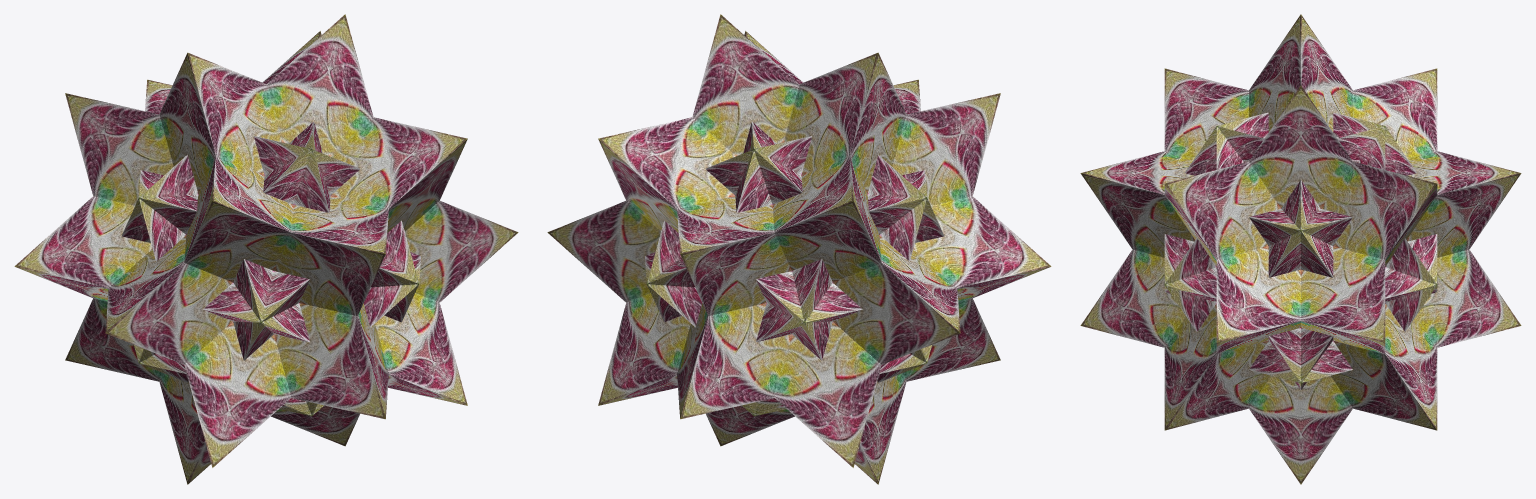
File: GreatRhombicTriacontahedron4.obj
3 renders of one model, left to right at view 1: azimuth 30°, elevation 25°; view 2: azimuth 150°, elevation 25°; view 3: azimuth 270°, elevation 25°, orthographic. The views are drawn at different scales.
Bounding box in the file's own units: 1.12 × 1.12 × 1.12.
Materials: 1 (1 with a texture image).
